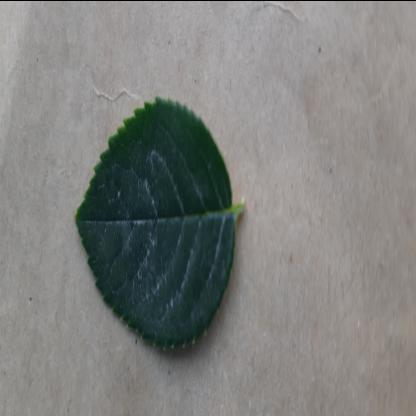normal: (74, 95, 236, 367)
